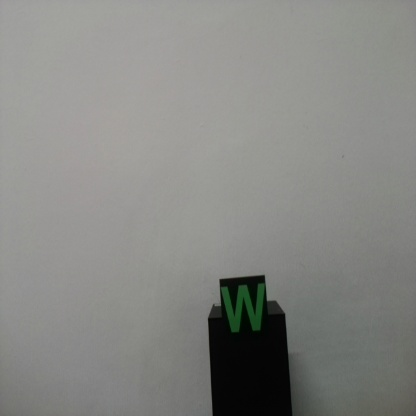id_12: (220, 278, 267, 343)
